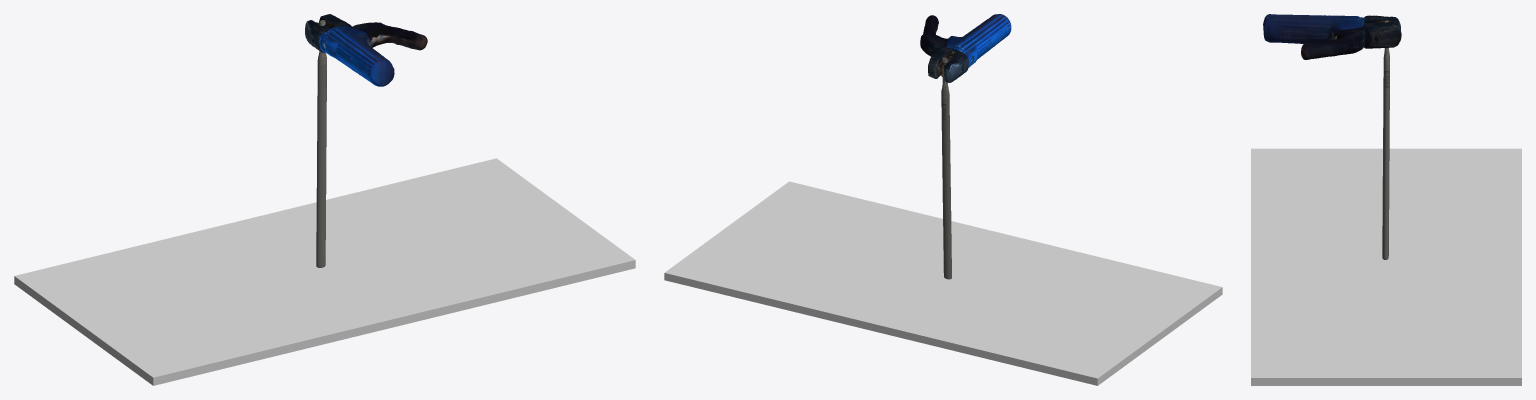
File: sudut-ok-anim.glb
The picture shows the model from 3 angles, left to right: view 1: azimuth 30°, elevation 25°; view 2: azimuth 150°, elevation 25°; view 3: azimuth 270°, elevation 25°; orthographic projection. The views are drawn at different scales.
Visible parts, largest first — view 1: Cube, 3DModel; view 2: Cube, 3DModel; view 3: Cube, 3DModel.
Boxes of the visible parts, <box> form: Cube: <box>14,158,635,385</box>; 3DModel: <box>305,14,427,267</box>; Cube: <box>664,181,1222,385</box>; 3DModel: <box>920,14,1011,279</box>; Cube: <box>1251,148,1521,385</box>; 3DModel: <box>1263,14,1401,259</box>.
Size of the model in its own units: 5.83 by 3.02 by 2.91.
Materials: 3 (2 with a texture image).
